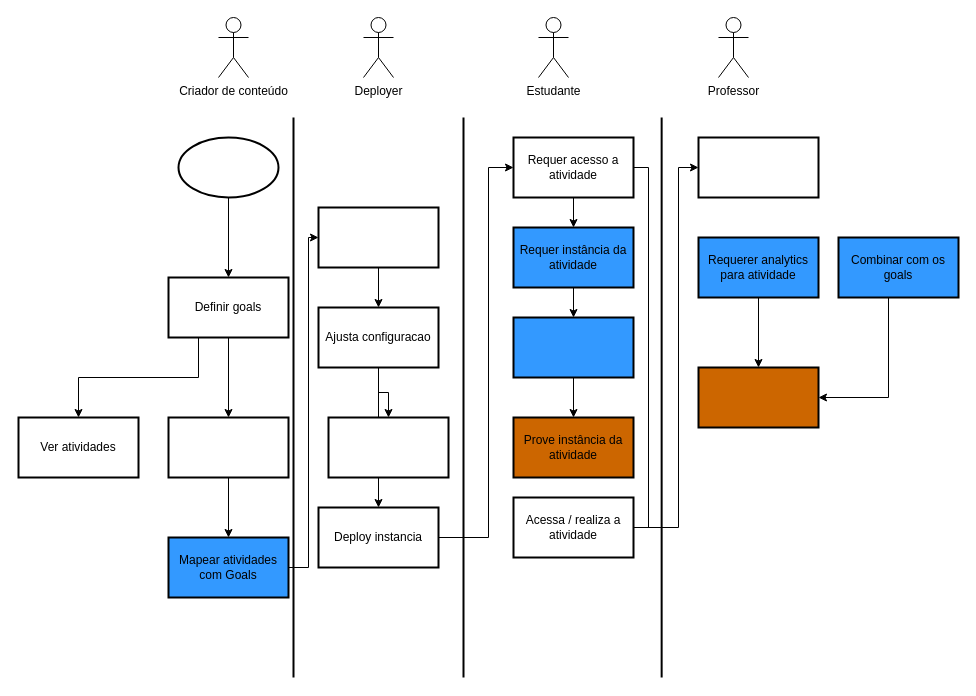
Image size: 976x696. Some labels were removed from this diagram. The centre of each missing label's shape, as x and y in pixels:
"Checar goals e KPIs" goes at [758,167].
"Criar atividades" goes at [228,447].
"Criar IAP" goes at [228,167].
"Deploy URL" goes at [573,347].
"Prover analytics para atividade" goes at [758,397].
"Seleciona IAP para deploy" goes at [378,237].
"Visualiza instancias deploys" goes at [388,447].
